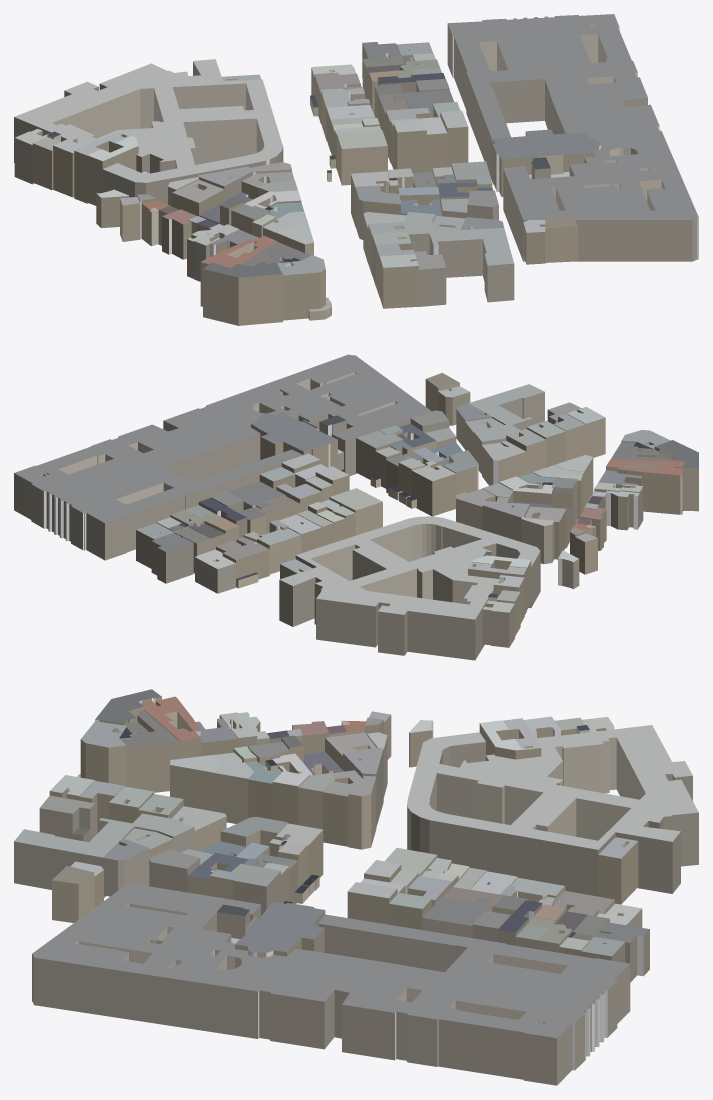
3 renders of one model, top to bottom at view 1: azimuth 30°, elevation 25°; view 2: azimuth 150°, elevation 25°; view 3: azimuth 270°, elevation 25°, orthographic. The views are drawn at different scales.
Parts seen in each view (by area): view 1: tuile; view 2: tuile; view 3: tuile.
Part boxes in pixels (x1,y1,x2,y2): tuile: (14,14,698,325); tuile: (14,354,698,660); tuile: (14,689,698,1085).
Bounding box in the file's own units: 340 × 34.38 × 301.
